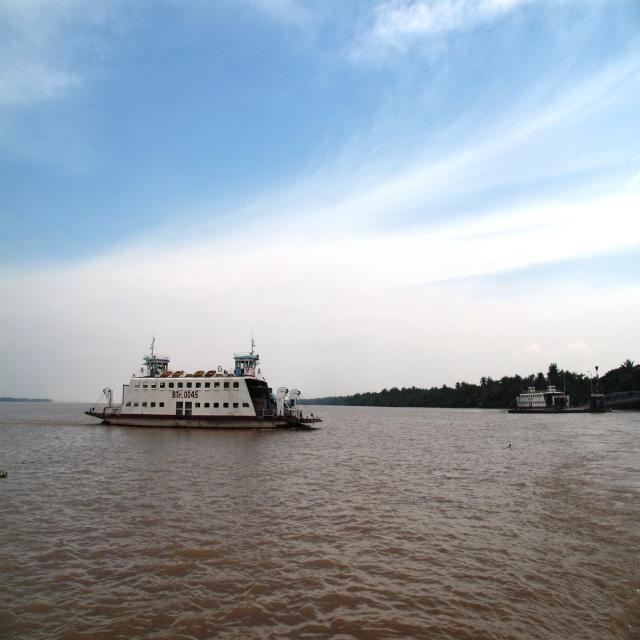houseboat: (82, 337, 320, 438)
